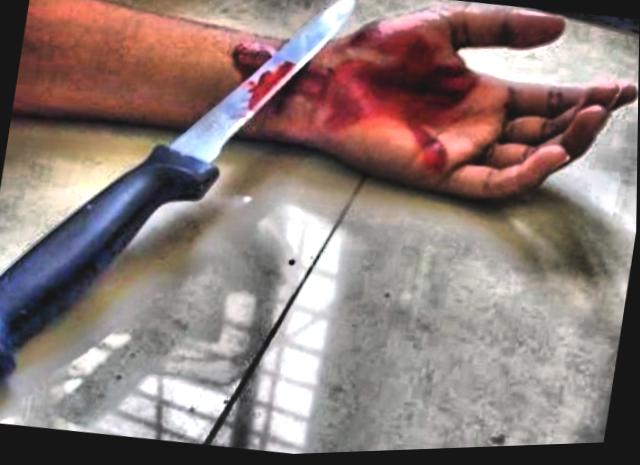knife: (125, 0, 362, 233)
